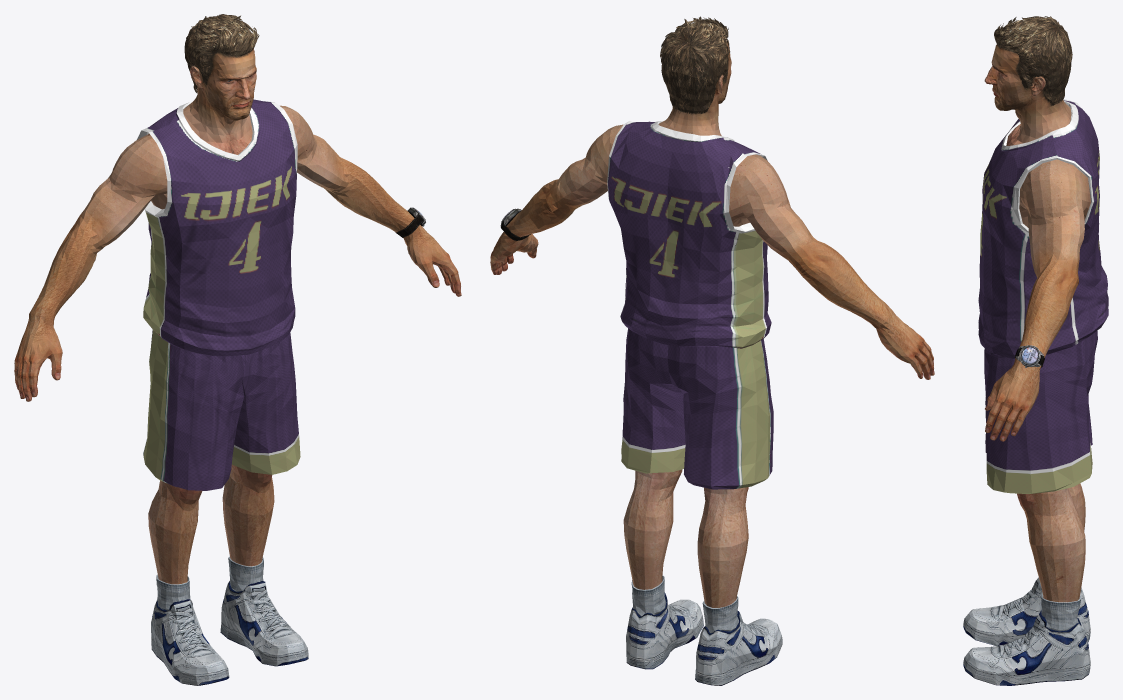
Rendered from Chuck Greene (Basketball Uniform).obj.
3 views of the same model, side by side, from view 1: azimuth 30°, elevation 25°; view 2: azimuth 150°, elevation 25°; view 3: azimuth 270°, elevation 25° (orthographic).
Parts seen in each view (by area): view 1: Mesh_0068.rip_Mes.010_Mesh_0068.rip_Mes.010_Tex_0000_0.dds.008_h, Mesh_0068.rip_Mes.010_Mesh_0068.rip_Mes.010_Mesh_0068.rip_eye_ey, Mesh_0068.rip_Mes.010_Mesh_0068.rip_Mes.010_Mesh_0068.rip_fac_fa, Mesh_0068.rip_Mes.010_Mesh_0068.rip_Mes.010_Tex_0000_0.dds.006_h, Mesh_0068.rip_Mes.010_Mesh_0068.rip_Mes.010_Mesh_0068.rip_han_ha, Mesh_0068.rip_Mes.010_Mesh_0068.rip_Mes.010_Mesh_0068.rip_hai_ha, Mesh_0068.rip_Mes.010_Mesh_0068.rip_Mes.010_Tex_0000_0.dds.009_h, Mesh_0068.rip_Mes.010_Mesh_0068.rip_Mes.010_Tex_0096_0.dds.005_s; view 2: Mesh_0068.rip_Mes.010_Mesh_0068.rip_Mes.010_Tex_0000_0.dds.008_h, Mesh_0068.rip_Mes.010_Mesh_0068.rip_Mes.010_Mesh_0068.rip_eye_ey, Mesh_0068.rip_Mes.010_Mesh_0068.rip_Mes.010_Mesh_0068.rip_hai_ha, Mesh_0068.rip_Mes.010_Mesh_0068.rip_Mes.010_Tex_0000_0.dds.006_h, Mesh_0068.rip_Mes.010_Mesh_0068.rip_Mes.010_Mesh_0068.rip_han_ha, Mesh_0068.rip_Mes.010_Mesh_0068.rip_Mes.010_Mesh_0068.rip_fac_fa, Mesh_0068.rip_Mes.010_Mesh_0068.rip_Mes.010_Tex_0000_0.dds.009_h, Mesh_0068.rip_Mes.010_Mesh_0068.rip_Mes.010_Tex_0096_0.dds.005_s; view 3: Mesh_0068.rip_Mes.010_Mesh_0068.rip_Mes.010_Tex_0000_0.dds.008_h, Mesh_0068.rip_Mes.010_Mesh_0068.rip_Mes.010_Tex_0000_0.dds.006_h, Mesh_0068.rip_Mes.010_Mesh_0068.rip_Mes.010_Mesh_0068.rip_eye_ey, Mesh_0068.rip_Mes.010_Mesh_0068.rip_Mes.010_Mesh_0068.rip_fac_fa, Mesh_0068.rip_Mes.010_Mesh_0068.rip_Mes.010_Mesh_0068.rip_hai_ha, Mesh_0068.rip_Mes.010_Mesh_0068.rip_Mes.010_Mesh_0068.rip_han_ha, Mesh_0068.rip_Mes.010_Mesh_0068.rip_Mes.010_Tex_0096_0.dds.005_s, Mesh_0068.rip_Mes.010_Mesh_0068.rip_Mes.010_Tex_0049_0.dds_wa_wa, Mesh_0068.rip_Mes.010_Mesh_0068.rip_Mes.010_Tex_0000_0.dds.004_h.
Part boxes in pixels (x1,y1,x2,y2): Mesh_0068.rip_Mes.010_Mesh_0068.rip_Mes.010_Tex_0000_0.dds.008_h: [32, 14, 412, 685]; Mesh_0068.rip_Mes.010_Mesh_0068.rip_Mes.010_Mesh_0068.rip_eye_ey: [148, 80, 274, 584]; Mesh_0068.rip_Mes.010_Mesh_0068.rip_Mes.010_Mesh_0068.rip_fac_fa: [151, 49, 256, 209]; Mesh_0068.rip_Mes.010_Mesh_0068.rip_Mes.010_Tex_0000_0.dds.006_h: [200, 15, 308, 666]; Mesh_0068.rip_Mes.010_Mesh_0068.rip_Mes.010_Mesh_0068.rip_han_ha: [14, 217, 461, 401]; Mesh_0068.rip_Mes.010_Mesh_0068.rip_Mes.010_Mesh_0068.rip_hai_ha: [184, 16, 253, 93]; Mesh_0068.rip_Mes.010_Mesh_0068.rip_Mes.010_Tex_0000_0.dds.009_h: [156, 20, 253, 610]; Mesh_0068.rip_Mes.010_Mesh_0068.rip_Mes.010_Tex_0096_0.dds.005_s: [228, 556, 263, 591]; Mesh_0068.rip_Mes.010_Mesh_0068.rip_Mes.010_Tex_0000_0.dds.008_h: [508, 18, 886, 685]; Mesh_0068.rip_Mes.010_Mesh_0068.rip_Mes.010_Mesh_0068.rip_eye_ey: [623, 469, 748, 607]; Mesh_0068.rip_Mes.010_Mesh_0068.rip_Mes.010_Mesh_0068.rip_hai_ha: [661, 22, 728, 114]; Mesh_0068.rip_Mes.010_Mesh_0068.rip_Mes.010_Tex_0000_0.dds.006_h: [626, 17, 728, 669]; Mesh_0068.rip_Mes.010_Mesh_0068.rip_Mes.010_Mesh_0068.rip_han_ha: [490, 224, 934, 379]; Mesh_0068.rip_Mes.010_Mesh_0068.rip_Mes.010_Mesh_0068.rip_fac_fa: [658, 42, 749, 226]; Mesh_0068.rip_Mes.010_Mesh_0068.rip_Mes.010_Tex_0000_0.dds.009_h: [675, 20, 738, 633]; Mesh_0068.rip_Mes.010_Mesh_0068.rip_Mes.010_Tex_0096_0.dds.005_s: [631, 575, 666, 616]; Mesh_0068.rip_Mes.010_Mesh_0068.rip_Mes.010_Tex_0000_0.dds.008_h: [963, 22, 1108, 645]; Mesh_0068.rip_Mes.010_Mesh_0068.rip_Mes.010_Tex_0000_0.dds.006_h: [963, 16, 1090, 685]; Mesh_0068.rip_Mes.010_Mesh_0068.rip_Mes.010_Mesh_0068.rip_eye_ey: [1017, 483, 1085, 602]; Mesh_0068.rip_Mes.010_Mesh_0068.rip_Mes.010_Mesh_0068.rip_fac_fa: [984, 44, 1090, 227]; Mesh_0068.rip_Mes.010_Mesh_0068.rip_Mes.010_Mesh_0068.rip_hai_ha: [999, 17, 1072, 105]; Mesh_0068.rip_Mes.010_Mesh_0068.rip_Mes.010_Mesh_0068.rip_han_ha: [985, 355, 1041, 441]; Mesh_0068.rip_Mes.010_Mesh_0068.rip_Mes.010_Tex_0096_0.dds.005_s: [1041, 594, 1080, 631]; Mesh_0068.rip_Mes.010_Mesh_0068.rip_Mes.010_Tex_0049_0.dds_wa_wa: [1014, 345, 1044, 367]; Mesh_0068.rip_Mes.010_Mesh_0068.rip_Mes.010_Tex_0000_0.dds.004_h: [997, 20, 1046, 56].
Bounding box in the file's own units: 1.31 × 1.83 × 0.3777.
